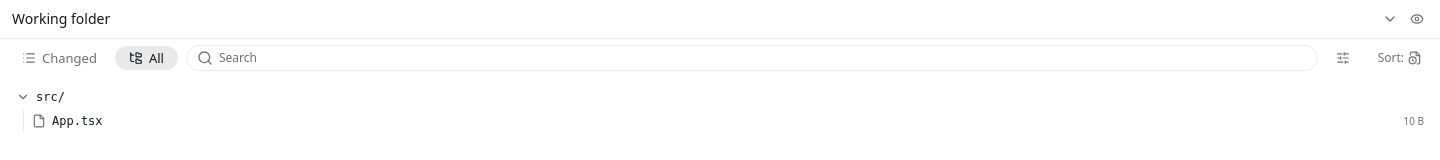
Test: FilesPanel tree (Explore) search › shows an empty-state message when the search returns no results
The image size is (1440, 160).
In the search field named "Search all files": (763, 58) [219,50,1307,66], type "zzznotfound"
Wait 300 ms
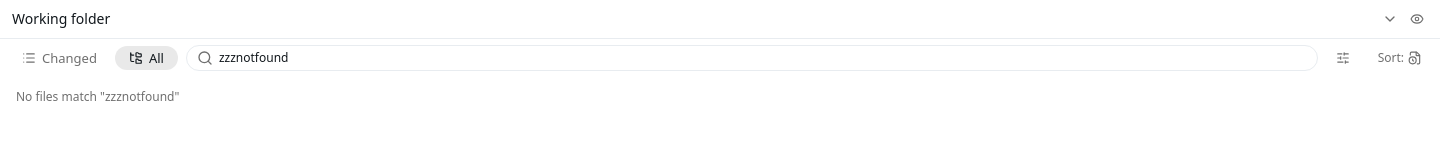
Result: the text "No files match \"zzznotfound\"" is shown at [16,88,179,105]
